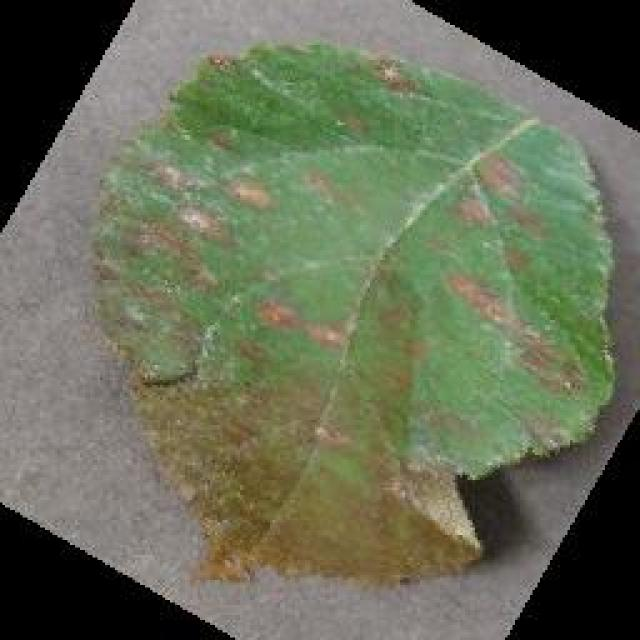apple cedar apple rust: (88, 35, 620, 590)
